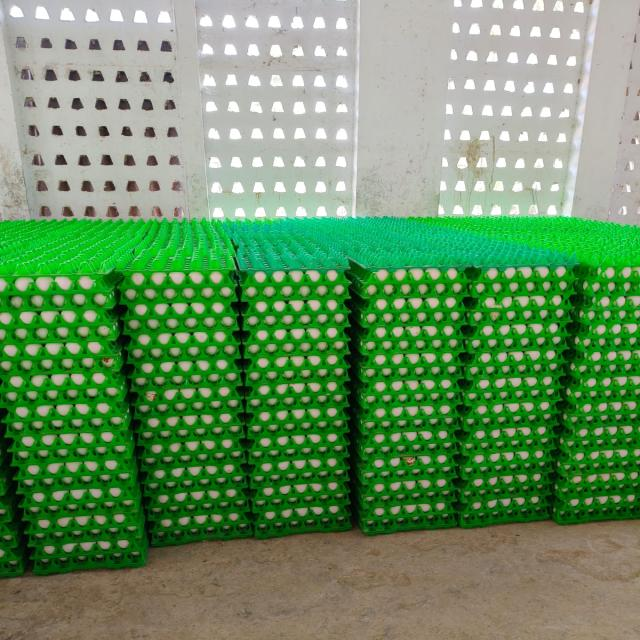egg_tray: (122, 271, 251, 545), (350, 265, 466, 533), (458, 265, 572, 525), (241, 269, 349, 536), (7, 397, 145, 572), (552, 266, 639, 523), (552, 265, 639, 522), (244, 324, 348, 536), (134, 370, 250, 545), (2, 342, 134, 492), (2, 348, 135, 492), (351, 269, 463, 432), (11, 418, 143, 556), (241, 270, 348, 435), (2, 340, 132, 473), (121, 271, 239, 412), (465, 266, 571, 421), (458, 370, 561, 526), (137, 414, 251, 546), (247, 394, 349, 537), (3, 359, 132, 468), (121, 272, 239, 390), (247, 406, 349, 537), (124, 297, 239, 413), (25, 463, 147, 572), (119, 221, 236, 329), (351, 312, 463, 424), (349, 263, 466, 368), (465, 297, 568, 416), (247, 420, 350, 537), (349, 263, 467, 365), (0, 307, 123, 404), (457, 410, 556, 526), (352, 424, 457, 533), (7, 402, 134, 492), (351, 426, 457, 533), (245, 376, 349, 485), (353, 417, 457, 526), (352, 318, 463, 420), (0, 219, 148, 295), (241, 270, 347, 376), (351, 321, 464, 419), (243, 327, 348, 432), (420, 216, 636, 266), (25, 483, 146, 572), (125, 310, 239, 403), (554, 398, 639, 521), (457, 418, 554, 525), (351, 301, 463, 393), (353, 362, 461, 455), (459, 376, 559, 476), (567, 267, 639, 405), (127, 331, 241, 418), (458, 423, 553, 526), (467, 265, 574, 352), (143, 456, 250, 543), (130, 357, 242, 440), (551, 418, 639, 523), (465, 268, 573, 352), (121, 220, 234, 300), (460, 376, 561, 464), (244, 349, 348, 434), (31, 500, 147, 574), (352, 376, 460, 454), (251, 453, 350, 538), (353, 302, 462, 377), (353, 294, 463, 368), (0, 275, 119, 343), (458, 442, 553, 527), (0, 274, 117, 343), (226, 219, 347, 285), (251, 458, 350, 538), (567, 295, 639, 404), (20, 482, 142, 545), (351, 365, 461, 434), (127, 332, 240, 399), (350, 263, 467, 327), (553, 436, 639, 522), (121, 271, 236, 334), (145, 480, 252, 546), (351, 367, 461, 431), (136, 411, 244, 475), (247, 399, 347, 467), (146, 482, 252, 546), (146, 483, 252, 546), (240, 269, 348, 330), (243, 350, 348, 412), (26, 503, 145, 556), (561, 351, 639, 428), (565, 323, 639, 402), (10, 420, 134, 467), (563, 351, 639, 426), (0, 264, 118, 310), (461, 370, 564, 420), (551, 466, 639, 523), (135, 410, 244, 454), (5, 400, 130, 438), (31, 534, 148, 574), (0, 340, 123, 378), (0, 273, 116, 313), (20, 482, 141, 520), (0, 370, 127, 406), (354, 490, 457, 534), (457, 456, 553, 502), (119, 267, 235, 305), (348, 261, 467, 298), (245, 398, 347, 441), (137, 413, 243, 453), (243, 325, 348, 365), (247, 425, 348, 466), (0, 309, 119, 343), (253, 497, 351, 538), (351, 319, 465, 354), (132, 382, 241, 417), (240, 268, 348, 303), (0, 427, 25, 576), (462, 345, 567, 380), (458, 488, 549, 528), (123, 302, 235, 334), (470, 264, 575, 298), (551, 484, 639, 524), (251, 477, 350, 512), (464, 345, 565, 379), (465, 320, 569, 352), (564, 367, 639, 408), (460, 424, 554, 453), (567, 318, 639, 352), (573, 290, 639, 325), (574, 264, 639, 297), (0, 495, 26, 577), (0, 421, 14, 496), (0, 420, 11, 496), (90, 474, 134, 491), (282, 379, 334, 391), (590, 324, 637, 335), (285, 387, 315, 404), (542, 294, 567, 313), (284, 379, 324, 388), (276, 408, 297, 424), (354, 364, 372, 376), (482, 356, 508, 364), (27, 516, 45, 526), (406, 360, 436, 366), (424, 514, 439, 526), (377, 406, 390, 418), (158, 450, 171, 462), (301, 380, 322, 387), (411, 298, 425, 308), (49, 498, 62, 508), (181, 468, 195, 477), (147, 322, 161, 330), (171, 361, 183, 370), (248, 372, 260, 381), (428, 478, 446, 484), (309, 398, 324, 405), (166, 322, 177, 330), (31, 501, 43, 508), (195, 306, 204, 315), (401, 387, 411, 395), (602, 376, 615, 382), (110, 487, 129, 491), (335, 438, 344, 446), (188, 320, 195, 330), (194, 450, 205, 456), (483, 358, 494, 364), (253, 362, 260, 370), (530, 304, 544, 308), (256, 307, 267, 312), (596, 356, 605, 362), (378, 359, 387, 365), (175, 452, 188, 456), (25, 494, 32, 501), (112, 557, 120, 563), (511, 357, 522, 361), (340, 337, 346, 344), (20, 360, 27, 366), (95, 344, 101, 351), (461, 442, 466, 450), (519, 304, 529, 308), (313, 361, 321, 366), (211, 450, 219, 455), (34, 472, 42, 477), (69, 490, 78, 494), (51, 288, 60, 292), (235, 433, 242, 438), (330, 276, 337, 281), (498, 357, 505, 362), (327, 412, 335, 416), (428, 402, 434, 407), (390, 362, 400, 365), (364, 399, 370, 404), (427, 411, 433, 416), (494, 456, 499, 462), (166, 397, 173, 401), (114, 442, 121, 446), (443, 387, 448, 392), (149, 363, 154, 368), (15, 381, 21, 385), (430, 371, 438, 374), (64, 344, 68, 350), (263, 467, 269, 471), (430, 389, 438, 392), (524, 296, 530, 300), (430, 371, 437, 374), (220, 368, 227, 371), (340, 338, 345, 342), (585, 379, 595, 381), (570, 359, 574, 364), (254, 375, 259, 379), (406, 410, 411, 414), (92, 489, 98, 492), (205, 310, 211, 313), (56, 509, 59, 515), (4, 348, 6, 357), (63, 353, 71, 355), (418, 392, 422, 396), (145, 319, 149, 323), (336, 389, 341, 392), (374, 401, 379, 404), (301, 281, 306, 284), (294, 382, 300, 384), (102, 345, 108, 347), (302, 498, 306, 501), (343, 402, 346, 406), (67, 503, 70, 507), (139, 557, 143, 560), (310, 361, 313, 365), (203, 434, 207, 437), (417, 298, 423, 300), (622, 393, 628, 395), (558, 266, 564, 268), (187, 274, 192, 276), (161, 274, 166, 276), (148, 274, 153, 276), (565, 446, 568, 449), (60, 156, 63, 159), (32, 540, 35, 543), (9, 361, 12, 364), (111, 360, 114, 363), (508, 455, 511, 458), (25, 496, 29, 498), (74, 496, 76, 500), (285, 385, 289, 387), (377, 330, 381, 332), (490, 361, 494, 363), (195, 368, 199, 370), (161, 362, 163, 366), (123, 559, 127, 561), (270, 377, 274, 379), (100, 479, 102, 482), (36, 381, 38, 384), (274, 406, 277, 408), (594, 361, 597, 363), (249, 369, 251, 372), (309, 356, 312, 358), (17, 292, 19, 295), (79, 291, 82, 293), (99, 358, 101, 361), (341, 414, 343, 417), (141, 363, 143, 366), (192, 309, 194, 312), (234, 318, 236, 321), (208, 326, 211, 328), (542, 392, 544, 395), (257, 386, 259, 389), (630, 406, 633, 408), (370, 523, 372, 526), (190, 290, 193, 292), (508, 490, 511, 492), (138, 498, 139, 502), (319, 512, 321, 514), (449, 371, 453, 372), (298, 327, 302, 328), (578, 311, 580, 313), (485, 362, 489, 363), (498, 360, 500, 362), (414, 362, 416, 364), (73, 349, 75, 351), (75, 360, 77, 362), (93, 359, 95, 361), (618, 376, 620, 378), (590, 352, 594, 353), (328, 362, 330, 364), (111, 288, 112, 292), (452, 438, 454, 440), (269, 386, 271, 388), (181, 290, 183, 292), (153, 274, 157, 275), (328, 382, 331, 383), (635, 426, 636, 429), (74, 343, 77, 344), (551, 425, 552, 428), (298, 309, 301, 310), (265, 469, 268, 470), (567, 272, 570, 273), (122, 547, 124, 548), (264, 389, 266, 390), (527, 403, 529, 404), (265, 365, 267, 366), (112, 274, 114, 275), (396, 416, 398, 417), (540, 454, 541, 456), (121, 469, 123, 470), (201, 458, 203, 459), (189, 315, 190, 317), (185, 539, 186, 541), (412, 416, 414, 417), (629, 406, 630, 408), (442, 522, 444, 523), (58, 492, 59, 493), (329, 382, 330, 383), (311, 342, 312, 343), (387, 442, 388, 443), (587, 352, 588, 353), (169, 361, 170, 362), (78, 567, 79, 568), (187, 470, 188, 471), (87, 436, 88, 437), (291, 416, 292, 417), (356, 441, 357, 442), (5, 356, 5, 357), (60, 379, 62, 379), (103, 548, 105, 548), (56, 421, 57, 421), (574, 316, 574, 316), (268, 372, 268, 372), (121, 358, 121, 361), (36, 474, 38, 474), (453, 390, 456, 390), (183, 281, 183, 283), (219, 474, 219, 477), (595, 352, 597, 352), (136, 403, 138, 403), (90, 279, 90, 279), (147, 372, 148, 372), (528, 481, 530, 481), (594, 341, 594, 341), (541, 296, 541, 298), (494, 262, 494, 264), (634, 247, 634, 248), (563, 478, 563, 479), (377, 434, 381, 434), (593, 283, 598, 283), (490, 460, 490, 462)
